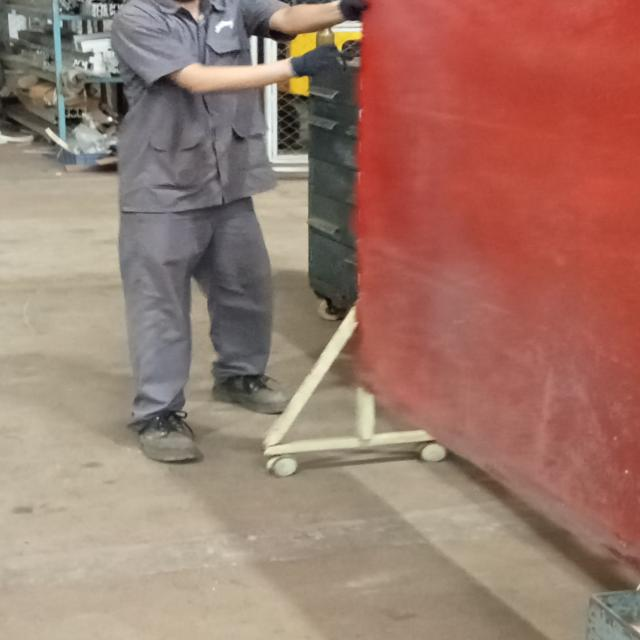Gloves-Detection: (278, 51, 342, 78)
